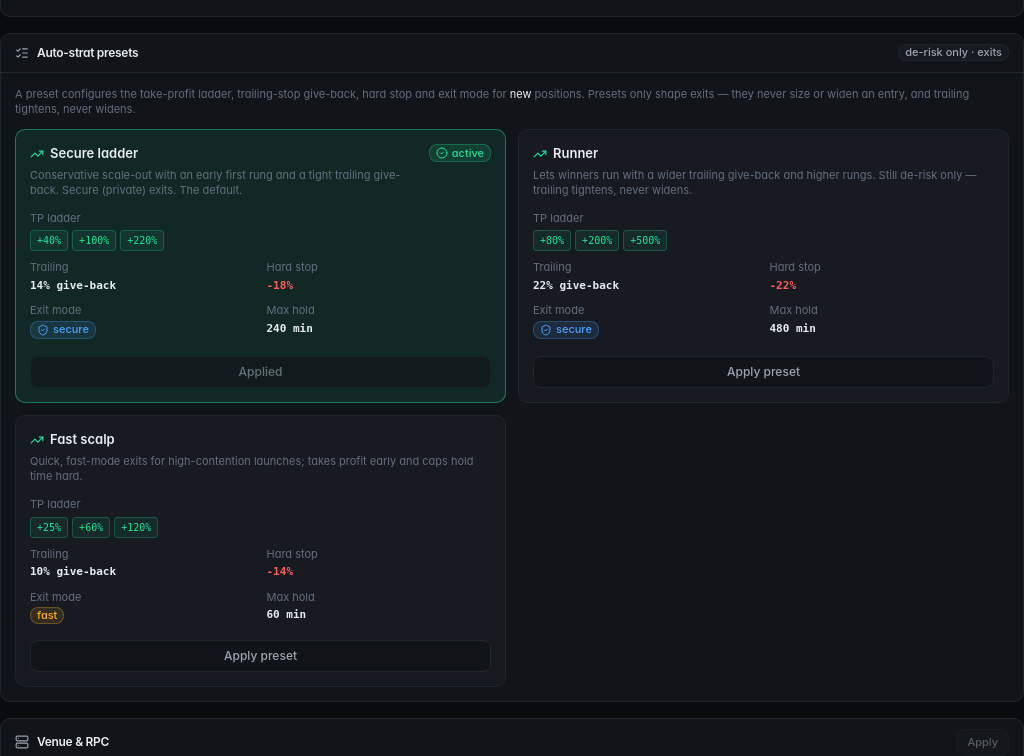
Test: Settings — auto-strat presets › applying a preset does not switch mode or change the breaker
(page scrolled)
Step 1. Click the button with aria-label "apply runner preset" → coordinates (764, 372), box [533, 356, 994, 388]
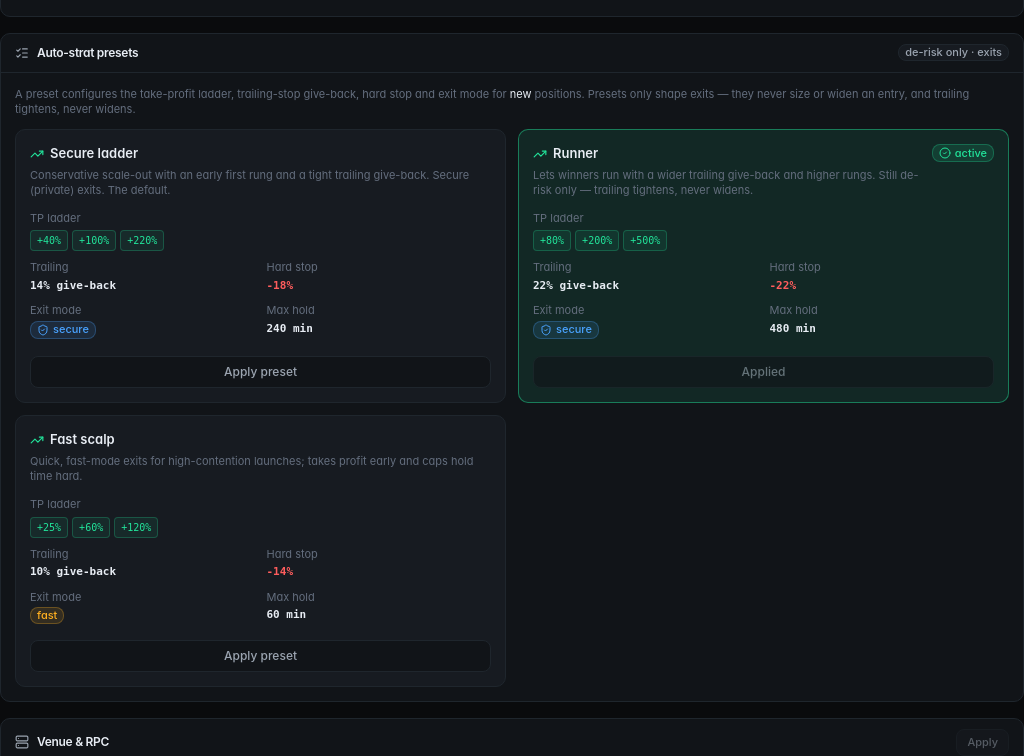
expect the button with aria-label "apply runner preset" is disabled: met, box [533, 356, 994, 388]
